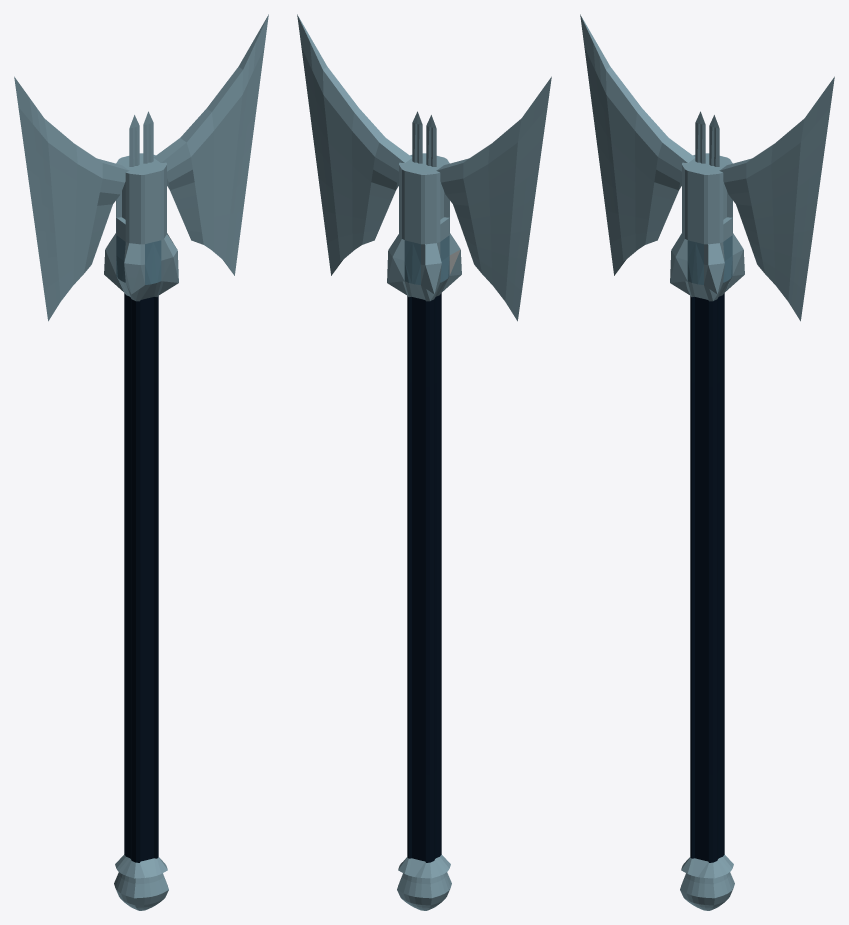
The model's file is Greataxe_mk_2.fbx.
3 renders of one model, left to right at view 1: azimuth 30°, elevation 25°; view 2: azimuth 150°, elevation 25°; view 3: azimuth 330°, elevation 25°, orthographic.
Parts seen in each view (by area): view 1: Axe_mk_2; view 2: Axe_mk_2; view 3: Axe_mk_2.
Part boxes in pixels (bbox=[...]): Axe_mk_2: bbox=[14, 14, 268, 910]; Axe_mk_2: bbox=[297, 14, 551, 910]; Axe_mk_2: bbox=[580, 14, 834, 910].
Bounding box in the file's own units: 43.31 × 9.12 × 140.
